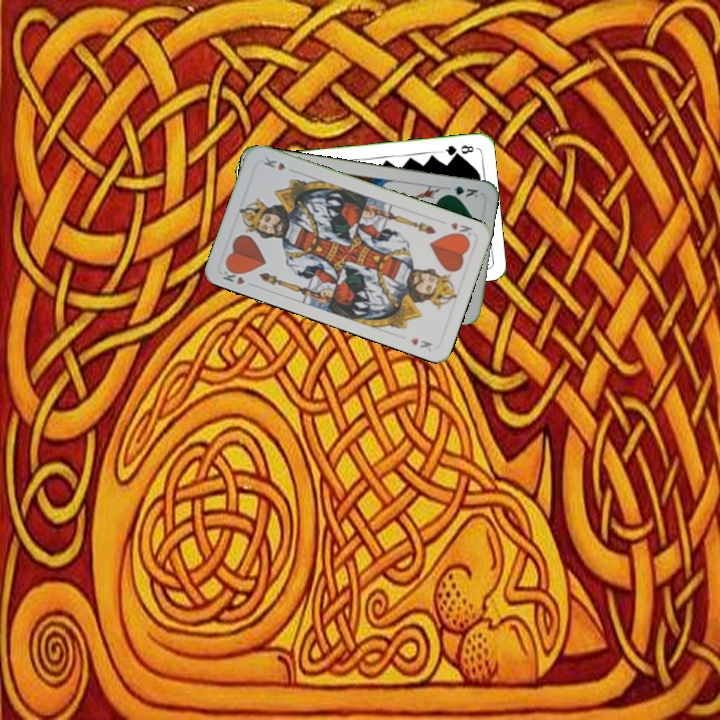G8: (438, 141, 476, 158)
GK: (441, 182, 481, 200)
HK: (218, 263, 257, 289), (447, 218, 475, 241)
